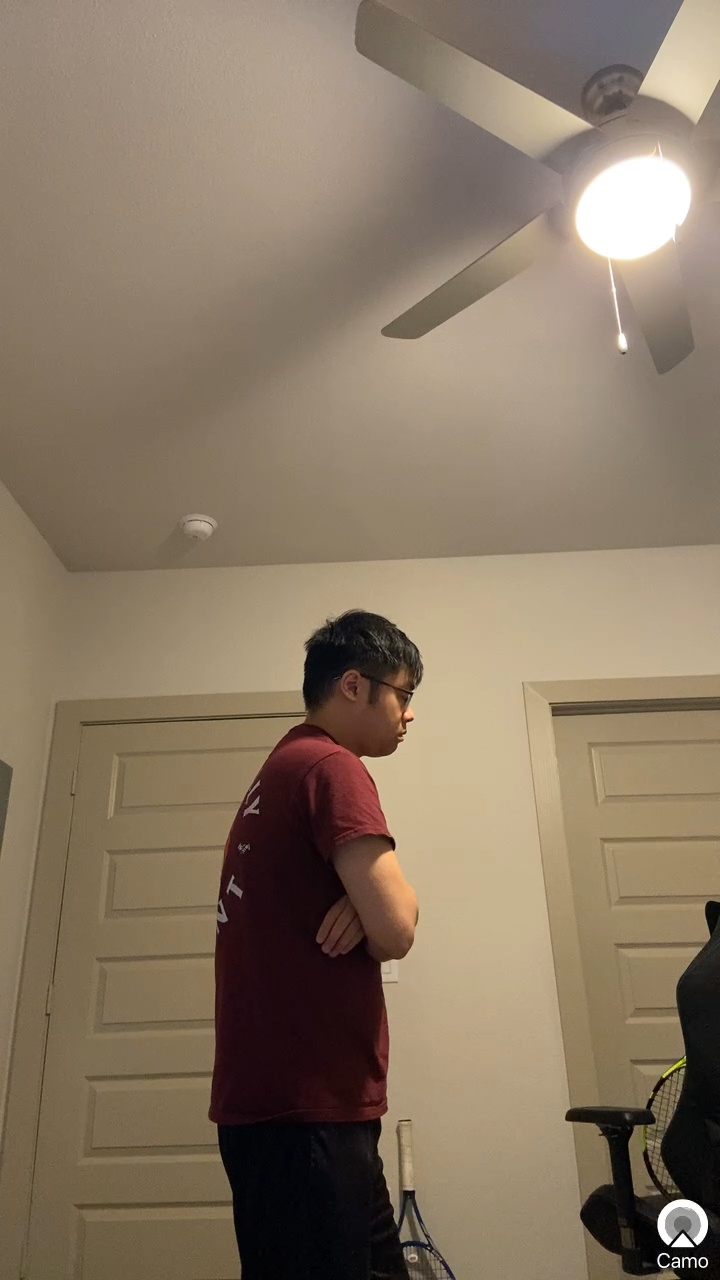Person: (197, 594, 483, 1280)
